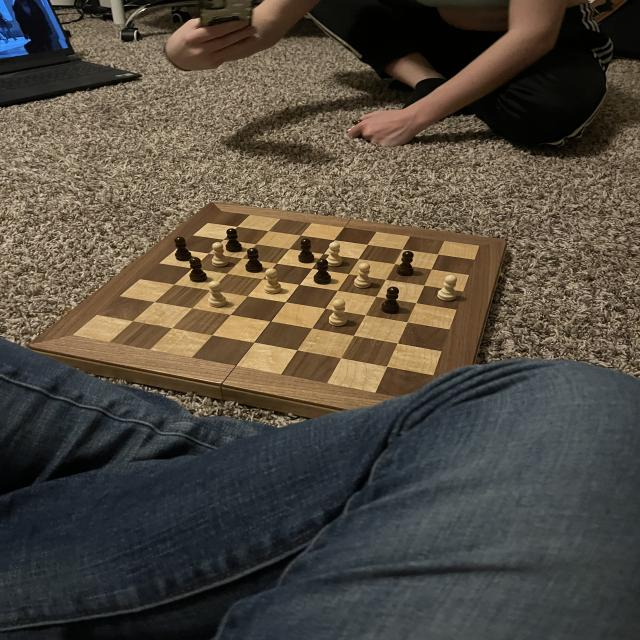black-knight: (380, 286, 402, 315), (312, 258, 333, 286), (296, 237, 317, 264), (188, 256, 209, 283), (396, 250, 416, 278), (224, 227, 243, 253), (174, 236, 192, 263), (245, 247, 262, 273)
white-knight: (435, 274, 460, 302), (322, 241, 346, 268), (328, 298, 350, 327), (210, 240, 231, 268), (207, 280, 227, 308), (263, 268, 283, 295), (353, 262, 372, 290)
